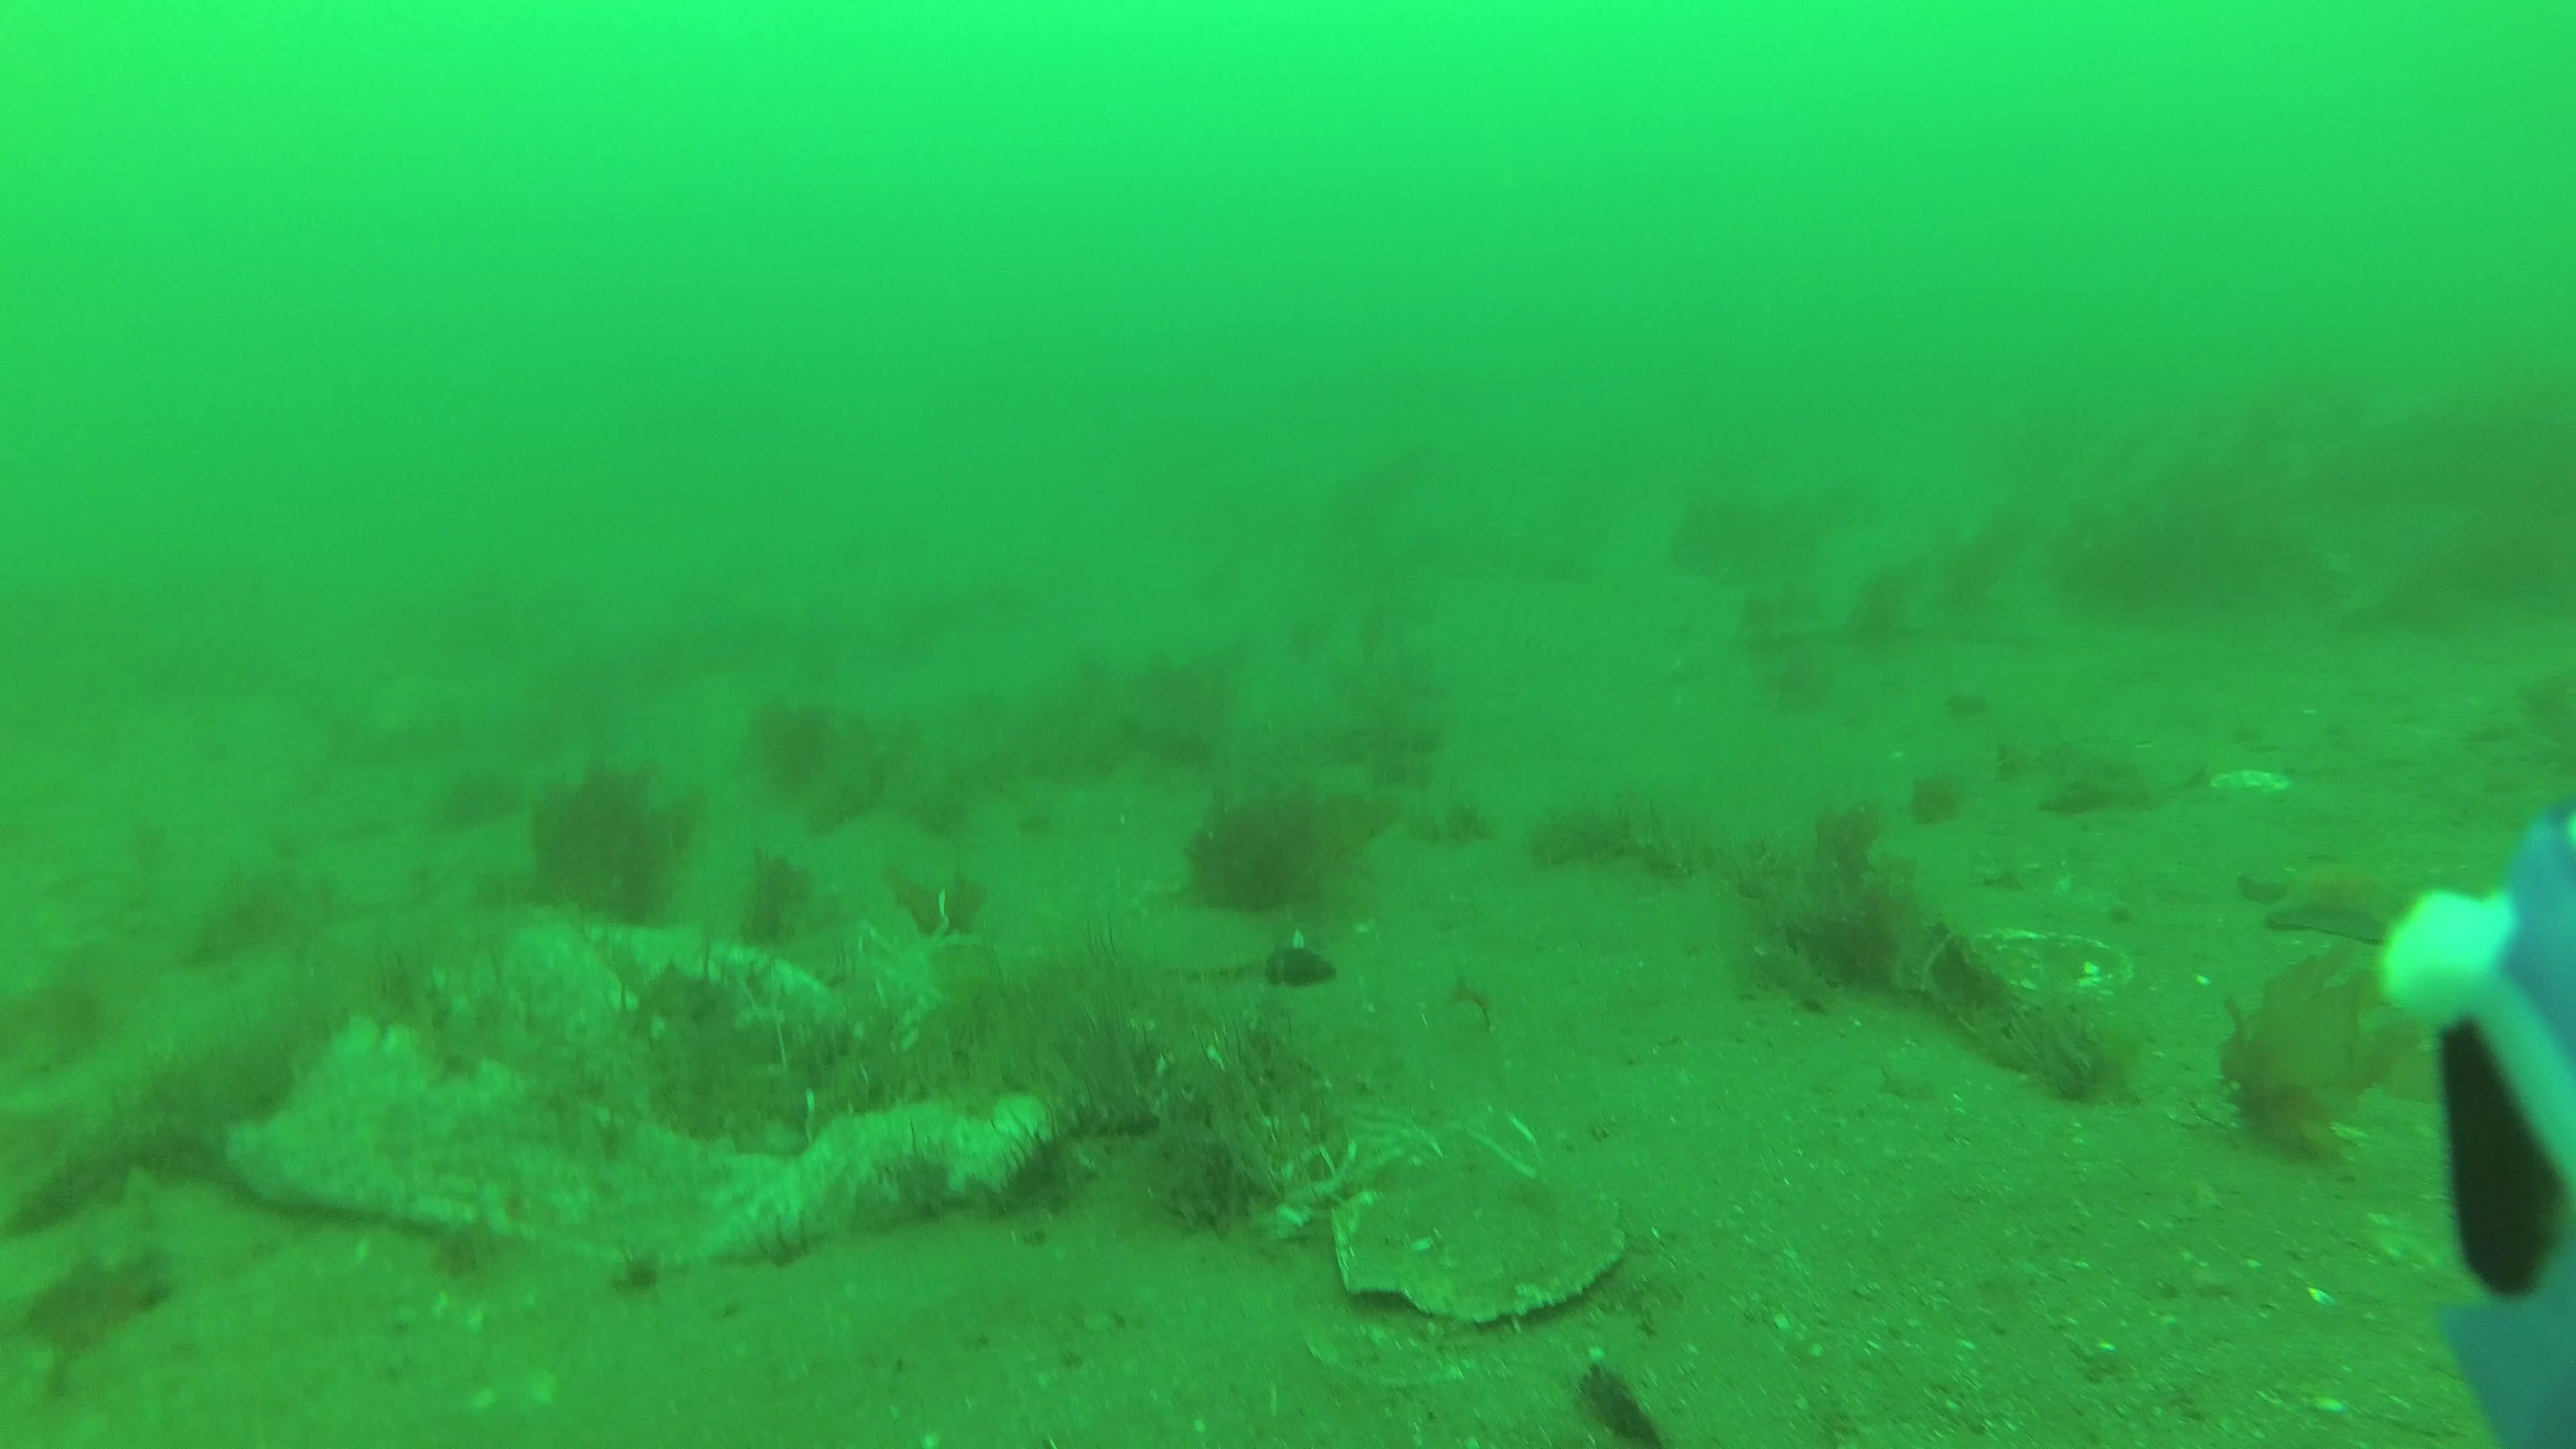scallop: (1322, 1155, 1635, 1332)
starfish: (2235, 851, 2417, 950)
